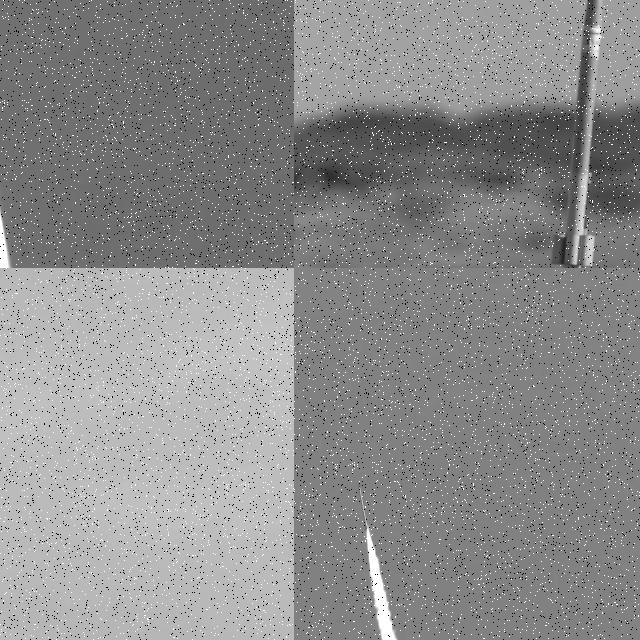Rocket: (549, 0, 602, 268), (358, 483, 371, 532)
